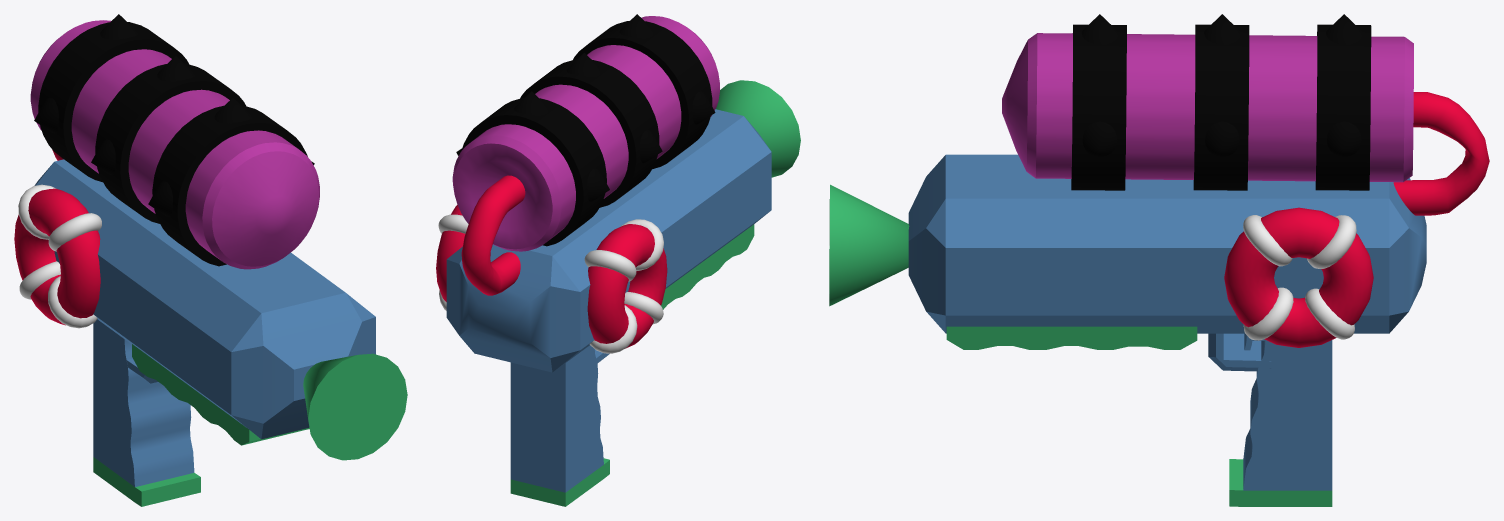
File: Shooter.fbx
3 renders of one model, left to right at view 1: azimuth 30°, elevation 25°; view 2: azimuth 150°, elevation 25°; view 3: azimuth 270°, elevation 25°, orthographic. The views are drawn at different scales.
Parts seen in each view (by area): view 1: pCube5, pCylinder1, pCube1, pCone1, pTorus11, pCylinder4, pCylinder5, pCylinder3, pCube6, pTorus8, pTorus9, pTorus10 (+7 smaller); view 2: pCube5, pCylinder1, pCube1, pTorus11, pCylinder4, pCylinder3, pCylinder5, pCylinder2, pCone1, pCube6, pTorus1, pTorus7 (+10 smaller); view 3: pCube5, pCylinder1, pCube1, pTorus1, pCylinder3, pCylinder4, pCylinder5, pCone1, pCylinder2, pCube6, pCube3, pTorus6 (+9 smaller).
Part boxes in pixels (x1,y1,x2,y2): pCube5: (34, 159, 375, 439); pCylinder1: (30, 20, 319, 269); pCube1: (93, 319, 200, 506); pCone1: (303, 353, 407, 460); pTorus11: (14, 188, 100, 325); pCylinder4: (38, 22, 189, 182); pCylinder5: (152, 105, 307, 266); pCylinder3: (95, 63, 245, 223); pCube6: (132, 344, 309, 445); pTorus8: (48, 213, 101, 251); pTorus9: (48, 276, 97, 328); pTorus10: (19, 261, 60, 299); pCube5: (446, 109, 771, 372); pCylinder1: (452, 16, 719, 251); pCube1: (510, 345, 609, 506); pTorus11: (587, 224, 667, 348); pCylinder4: (461, 98, 606, 246); pCylinder3: (520, 59, 659, 207); pCylinder5: (573, 21, 712, 169); pCylinder2: (461, 175, 525, 295); pCone1: (716, 80, 800, 177); pCube6: (661, 224, 754, 309); pTorus1: (436, 205, 465, 301); pTorus7: (584, 250, 636, 281); pCube5: (908, 154, 1426, 333); pCylinder1: (1002, 33, 1413, 182); pCube1: (1229, 340, 1332, 506); pTorus1: (1224, 207, 1373, 347); pCylinder3: (1193, 24, 1249, 190); pCylinder4: (1315, 24, 1371, 190); pCylinder5: (1071, 24, 1126, 190); pCone1: (829, 184, 909, 306); pCylinder2: (1393, 92, 1489, 215); pCube6: (946, 326, 1197, 349); pCube3: (1208, 333, 1271, 371); pTorus6: (1307, 215, 1356, 268).
Bounding box in the file's own units: 3.49 × 7.18 × 8.98.
